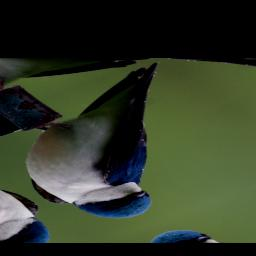Swallow: (0, 61, 256, 233)
